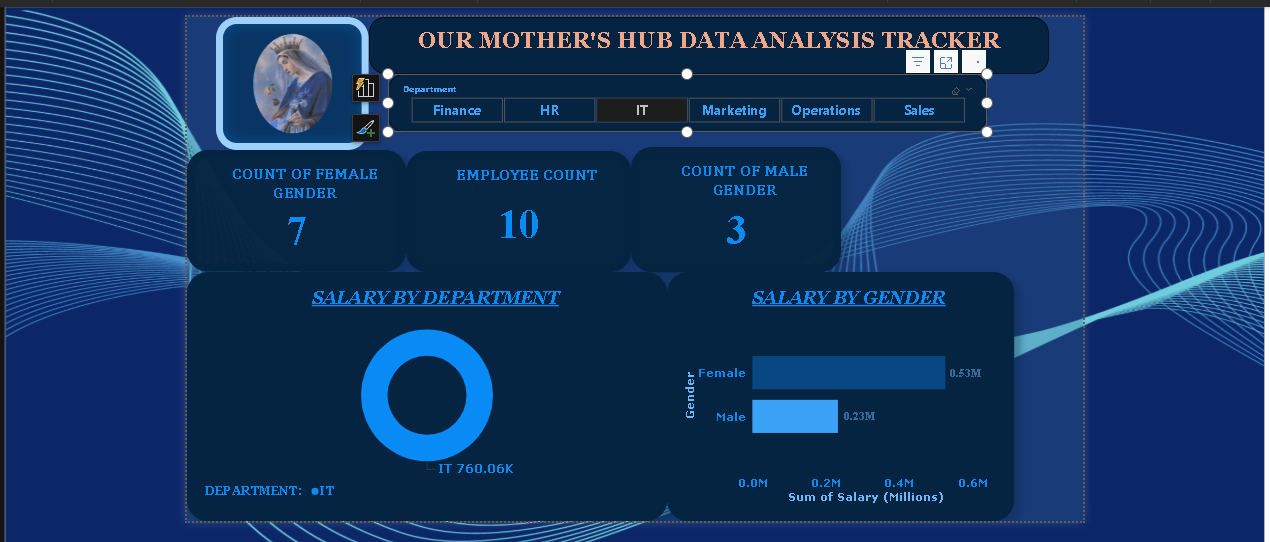

This screenshot's page, from the dashboard's own definition file:
{"tool":"powerbi","page":{"name":"Page REPORT","canvas":[1280,720],"ordinal":0},"visuals":[{"type":"card","title":"EMPLOYEE COUNT","fields":{"Values":["HR_Employee_Data.Measure 2"]},"box":[312.9,190,321.4,174.3],"z":0},{"type":"card","title":" COUNT OF MALE GENDER","fields":{"Values":["Count(HR_Employee_Data)"]},"box":[634.3,185.7,300,178.6],"z":1000},{"type":"card","title":" COUNT OF FEMALE GENDER","fields":{"Values":["Count(HR_Employee_Data)"]},"box":[0,190,312.9,174.3],"z":2000},{"type":"textbox","box":[260,0,971.4,81.4],"z":3000},{"type":"image","box":[41.7,0,218.3,190],"z":4000},{"type":"donutChart","title":"SALARY BY DEPARTMENT","fields":{"Y":["Sum(HR_Employee_Data.Salary)"],"Category":["HR_Employee_Data.Department"]},"box":[0,364.3,685.7,355.7],"z":5000},{"type":"clusteredBarChart","title":"SALARY BY GENDER","fields":{"Y":["Sum(HR_Employee_Data.Salary)"],"Category":["HR_Employee_Data.Gender"]},"box":[685.7,364.3,495.7,355.7],"z":6000},{"type":"slicer","fields":{"Values":["HR_Employee_Data.Department"]},"box":[287.1,81.4,855.7,82.9],"z":7000}]}

Visuals, with their boxes on the page's 1280x720 design canvas (x1, y1, x2, y2). These are canvas units, not pixel positions in the 1270x542 screenshot, which may show the page scaled, cropped or inside an application window:
"EMPLOYEE COUNT" card: (313,190,634,364)
" COUNT OF MALE GENDER" card: (634,186,934,364)
" COUNT OF FEMALE GENDER" card: (0,190,313,364)
textbox: (260,0,1231,81)
image: (42,0,260,190)
"SALARY BY DEPARTMENT" donutChart: (0,364,686,720)
"SALARY BY GENDER" clusteredBarChart: (686,364,1181,720)
slicer - HR_Employee_Data.Department: (287,81,1143,164)
